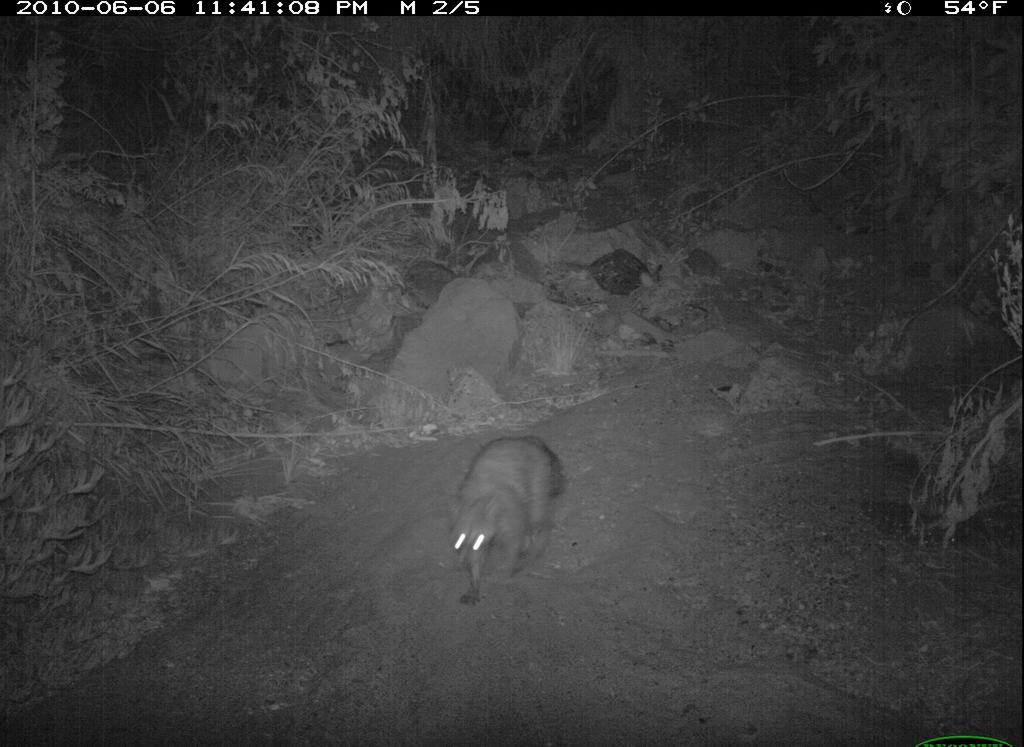raccoon: (438, 415, 588, 619)
